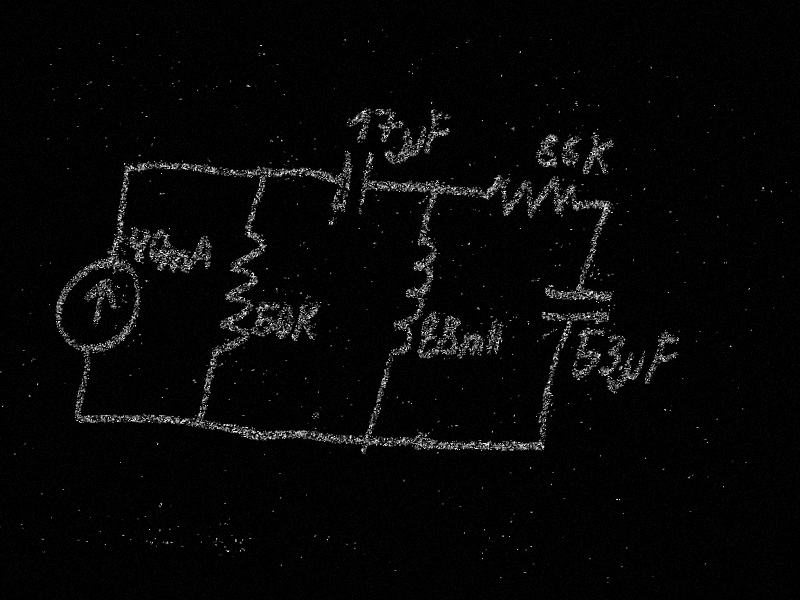0: (146, 228, 172, 266), (272, 305, 298, 340)
1: (339, 104, 375, 148)
3: (596, 333, 627, 379)
4: (123, 225, 153, 265)
5: (567, 327, 607, 382), (249, 299, 281, 339)
6: (557, 133, 585, 168)
7: (366, 106, 407, 146)
8: (413, 310, 449, 362), (435, 314, 465, 359), (532, 133, 563, 170)
A: (186, 233, 218, 275)
F: (643, 330, 684, 385), (421, 110, 456, 157)
H: (483, 319, 507, 357)
k: (581, 130, 618, 178), (289, 302, 322, 344)
m: (158, 248, 191, 274), (456, 333, 488, 358)
u: (394, 126, 427, 168), (617, 350, 648, 388)
